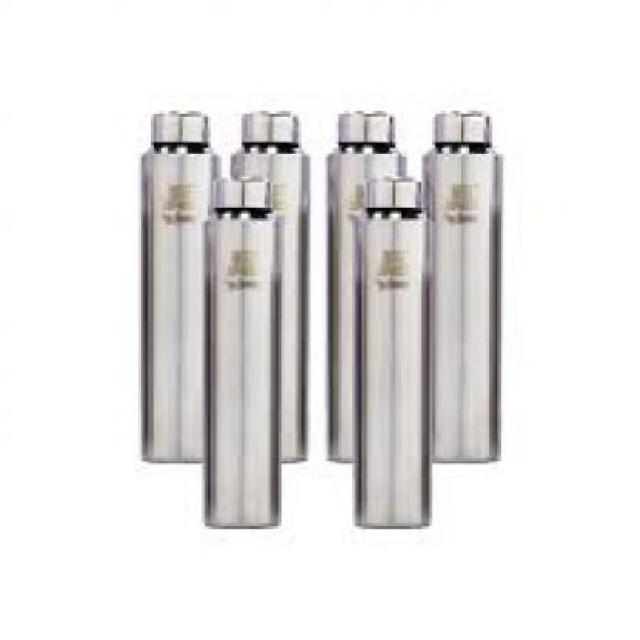Drinking: (125, 83, 526, 572)
